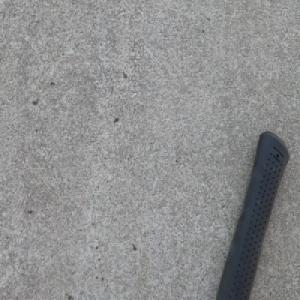Hammer: (211, 128, 290, 299)
